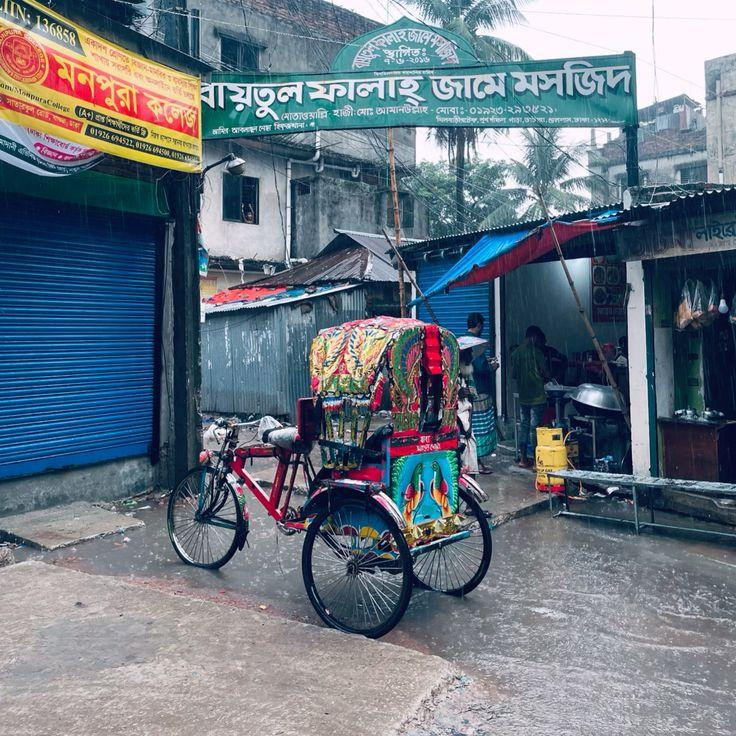Rickshaw: (168, 317, 491, 636)
